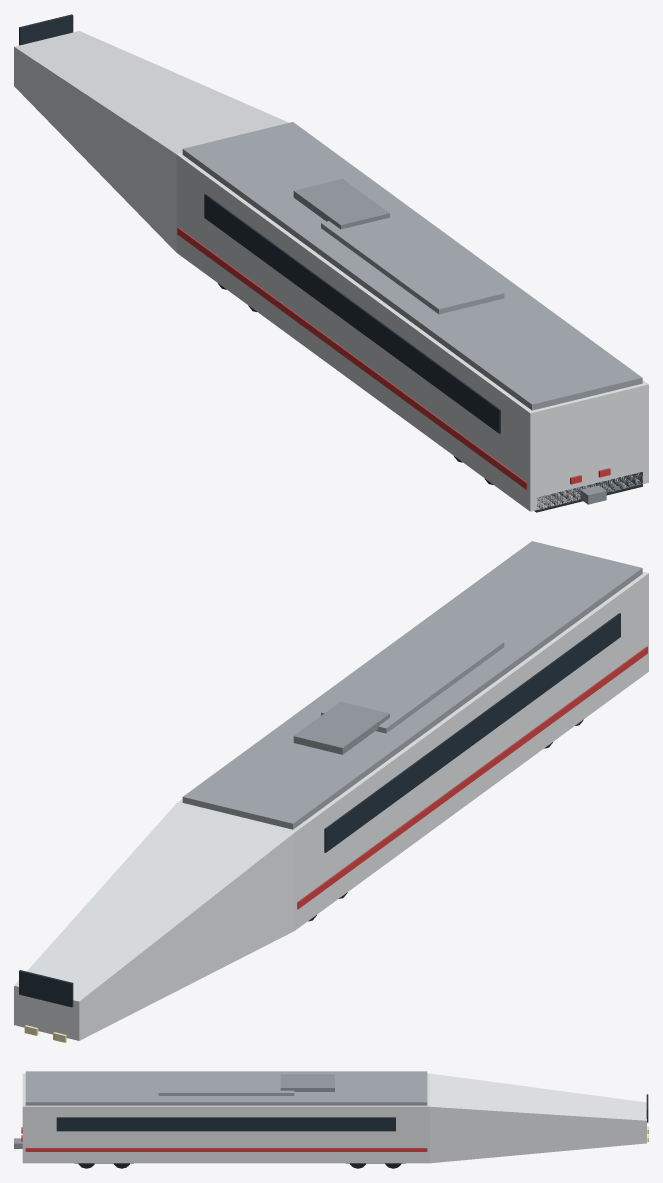
Rendered from ice.glb.
3 renders of one model, top to bottom at view 1: azimuth 30°, elevation 25°; view 2: azimuth 150°, elevation 25°; view 3: azimuth 270°, elevation 25°, orthographic. The views are drawn at different scales.
Visible parts, largest first — view 1: body, roof, aerodynamic-nose, roof-fairing, window-strip, stripe, roof-unit, underframe, cockpit; view 2: aerodynamic-nose, roof, body, window-strip, roof-fairing, stripe, roof-unit, cockpit; view 3: body, aerodynamic-nose, roof, window-strip, roof-fairing, stripe, roof-unit.
Part boxes in pixels (x1,y1,x2,y2): body: (176, 152, 648, 511); roof: (182, 122, 642, 410); aerodynamic-nose: (14, 31, 288, 251); roof-fairing: (321, 207, 504, 314); window-strip: (204, 194, 500, 433); stripe: (177, 227, 527, 489); roof-unit: (293, 178, 389, 229); underframe: (534, 472, 642, 512); cockpit: (19, 14, 73, 45); aerodynamic-nose: (14, 803, 294, 1040); roof: (182, 541, 642, 829); body: (176, 572, 648, 930); window-strip: (324, 613, 620, 852); roof-fairing: (321, 626, 504, 733); stripe: (297, 646, 647, 909); roof-unit: (293, 701, 389, 754); cockpit: (19, 970, 73, 1007); body: (22, 1073, 429, 1163); aerodynamic-nose: (430, 1073, 646, 1163); roof: (25, 1071, 427, 1105); window-strip: (56, 1117, 395, 1131); roof-fairing: (158, 1074, 294, 1095); stripe: (25, 1148, 427, 1151); roof-unit: (280, 1074, 334, 1091).
Size of the model in its own units: 2.98 by 3.04 by 23.39.
